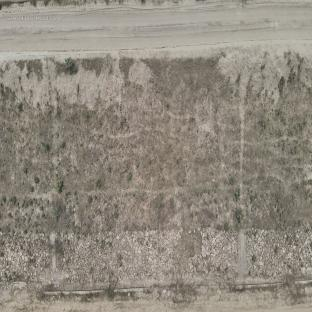rock_toe: (59, 231, 236, 285), (248, 227, 311, 276), (0, 234, 48, 282)
slope_drain: (237, 90, 249, 275)
toe_drain: (39, 269, 312, 297)
